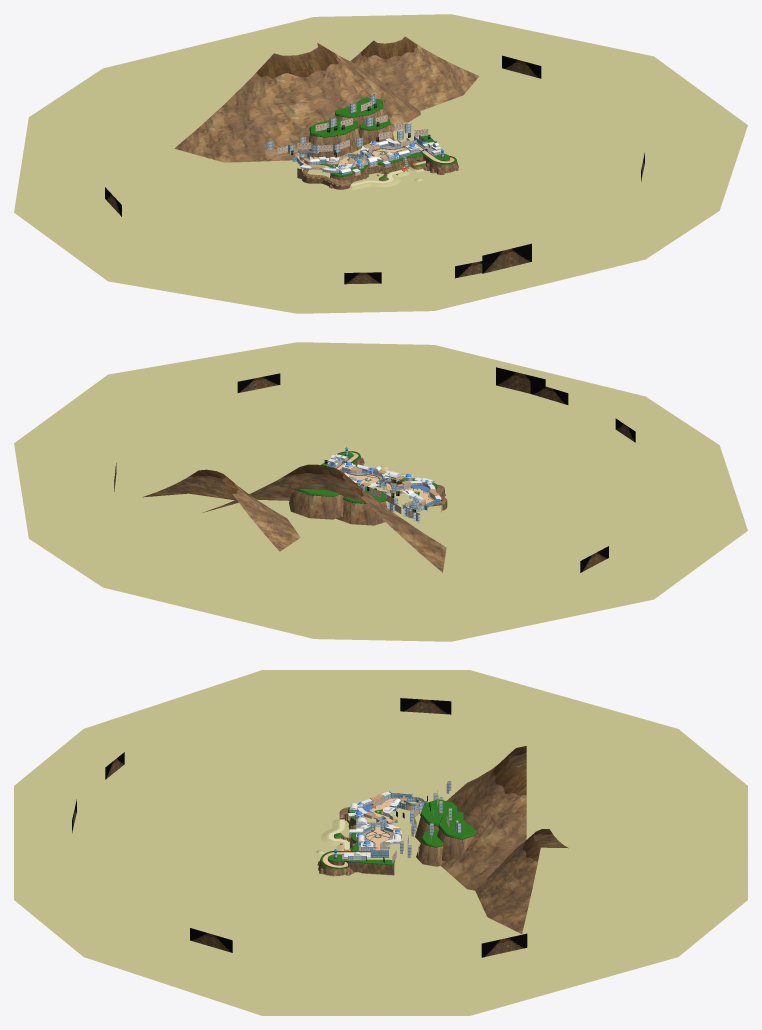
The picture shows the model from 3 angles, top to bottom: view 1: azimuth 30°, elevation 25°; view 2: azimuth 150°, elevation 25°; view 3: azimuth 270°, elevation 25°; orthographic projection. The views are drawn at different scales.
Parts seen in each view (by area): view 1: Sand_Geo.001, Cliff_Geo.001, Building_Geo.001, Mountain_Border_Geo.001, Props_Geo.001, Grass_Geo.001, Large_Borders_Geo.001; view 2: Sand_Geo.001, Cliff_Geo.001, Props_Geo.001, Building_Geo.001, Mountain_Border_Geo.001; view 3: Sand_Geo.001, Cliff_Geo.001, Building_Geo.001, Props_Geo.001, Mountain_Border_Geo.001, Grass_Geo.001, Town_Road_Geo.001, Large_Borders_Geo.001.
Boxes of the visible parts, left/top/right/bottom form: Sand_Geo.001: left=14, top=14, right=747, bottom=313; Cliff_Geo.001: left=174, top=47, right=479, bottom=189; Building_Geo.001: left=266, top=94, right=441, bottom=175; Mountain_Border_Geo.001: left=251, top=36, right=420, bottom=83; Props_Geo.001: left=105, top=55, right=644, bottom=284; Grass_Geo.001: left=310, top=97, right=456, bottom=179; Large_Borders_Geo.001: left=309, top=100, right=458, bottom=182; Sand_Geo.001: left=14, top=342, right=747, bottom=641; Cliff_Geo.001: left=142, top=457, right=447, bottom=572; Props_Geo.001: left=114, top=367, right=635, bottom=572; Building_Geo.001: left=326, top=454, right=441, bottom=523; Mountain_Border_Geo.001: left=187, top=464, right=367, bottom=501; Sand_Geo.001: left=14, top=670, right=747, bottom=1015; Cliff_Geo.001: left=317, top=754, right=568, bottom=933; Building_Geo.001: left=344, top=781, right=460, bottom=863; Props_Geo.001: left=72, top=698, right=527, bottom=957; Mountain_Border_Geo.001: left=491, top=746, right=553, bottom=865; Grass_Geo.001: left=320, top=799, right=475, bottom=868; Town_Road_Geo.001: left=323, top=798, right=420, bottom=867; Large_Borders_Geo.001: left=318, top=806, right=476, bottom=876.
Size of the model in its own units: 511006 by 57802 by 458377.
19 materials, 19 textured.
